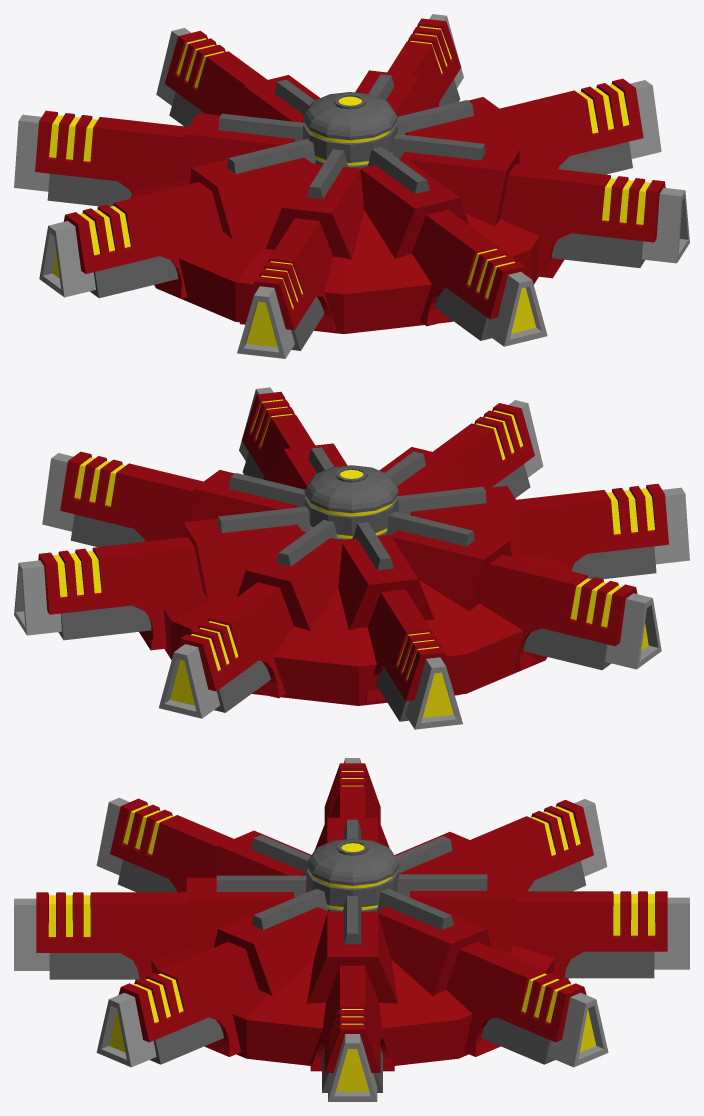
The model's file is Volley_Top_Lvl3.fbx.
3 views of the same model, one above another, from view 1: azimuth 30°, elevation 25°; view 2: azimuth 150°, elevation 25°; view 3: azimuth 270°, elevation 25° (orthographic). The views are drawn at different scales.
Visible parts, largest first — view 1: Cylinder.029, Gun Barrel Ext.010, Gun Barrel Ext.004, Gun Barrel Ext.007, Gun Barrel Ext.006, Gun Barrel Ext.008, Gun Barrel Ext.011, Turret Gun Base.002, Turret Gun Base.006, Gun Side Piece L.013, Gun Barrel Ext.005, Turret Gun Base.009 (+33 smaller); view 2: Cylinder.029, Gun Barrel Ext.009, Gun Barrel Ext.004, Gun Barrel Ext.011, Gun Barrel Ext.006, Gun Barrel Ext.005, Gun Barrel Ext.007, Turret Gun Base.002, Turret Gun Base.003, Gun Side Piece L.013, Gun Barrel Ext.008, Turret Gun Base.007 (+33 smaller); view 3: Cylinder.029, Gun Barrel Ext.008, Gun Barrel Ext.005, Gun Barrel Ext.009, Gun Barrel Ext.010, Gun Barrel Ext.011, Gun Barrel Ext.007, Gun Barrel Ext.006, Turret Gun Base.008, Turret Gun Base.007, Turret Gun Base.004, Gun Side Piece L.013 (+33 smaller).
Part boxes in pixels (x1,y1,x2,y2): Cylinder.029: [130, 180, 539, 333]; Gun Barrel Ext.010: [500, 164, 665, 278]; Gun Barrel Ext.004: [63, 182, 222, 298]; Gun Barrel Ext.007: [35, 110, 188, 194]; Gun Barrel Ext.006: [500, 78, 643, 168]; Gun Barrel Ext.008: [412, 209, 529, 326]; Gun Barrel Ext.011: [239, 218, 336, 331]; Turret Gun Base.002: [190, 157, 310, 238]; Turret Gun Base.006: [360, 158, 468, 258]; Gun Side Piece L.013: [303, 92, 397, 168]; Gun Barrel Ext.005: [164, 31, 267, 115]; Turret Gun Base.009: [265, 163, 364, 259]; Cylinder.029: [163, 554, 571, 705]; Gun Barrel Ext.009: [38, 537, 202, 650]; Gun Barrel Ext.004: [479, 554, 637, 670]; Gun Barrel Ext.011: [516, 483, 668, 570]; Gun Barrel Ext.006: [60, 451, 203, 541]; Gun Barrel Ext.005: [177, 582, 293, 698]; Gun Barrel Ext.007: [365, 589, 460, 702]; Turret Gun Base.002: [391, 530, 511, 611]; Turret Gun Base.003: [237, 530, 344, 630]; Gun Side Piece L.013: [304, 465, 398, 540]; Gun Barrel Ext.008: [433, 403, 534, 488]; Turret Gun Base.007: [183, 518, 301, 598]; Cylinder.029: [151, 891, 554, 1065]; Gun Barrel Ext.008: [36, 892, 306, 980]; Gun Barrel Ext.005: [512, 891, 667, 979]; Gun Barrel Ext.009: [446, 941, 586, 1056]; Gun Barrel Ext.010: [118, 942, 258, 1056]; Gun Barrel Ext.011: [110, 798, 307, 892]; Gun Barrel Ext.007: [470, 800, 593, 891]; Gun Barrel Ext.006: [310, 965, 394, 1072]; Turret Gun Base.008: [214, 897, 328, 996]; Turret Gun Base.007: [376, 898, 491, 995]; Turret Gun Base.004: [307, 911, 397, 1003]; Gun Side Piece L.013: [306, 838, 399, 911].
Size of the model in its own units: 532 by 126 by 533.
